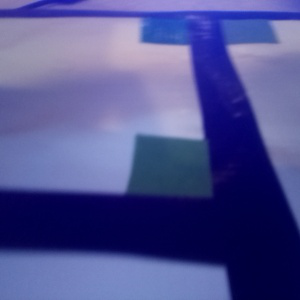bottom_left: (141, 11, 218, 45)
top_left: (125, 135, 261, 253)
top_right: (190, 11, 278, 45)
